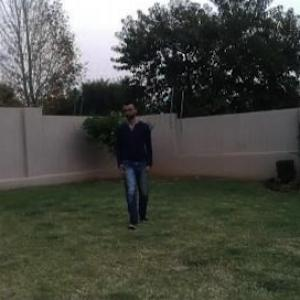follow: (116, 94, 156, 231)
